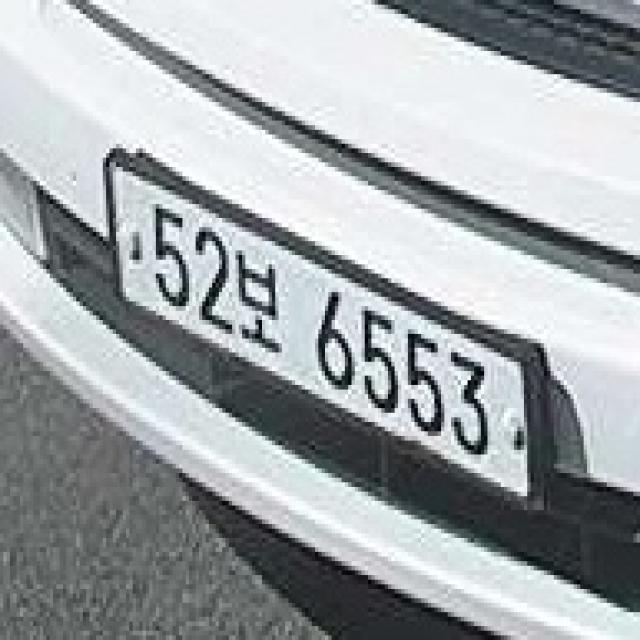2: (192, 222, 232, 352)
3: (447, 347, 492, 470)
5: (401, 329, 452, 447), (146, 199, 192, 324), (357, 304, 400, 434)
6: (309, 286, 353, 398)
bo: (233, 240, 283, 368)
license_plate: (96, 127, 574, 558)
